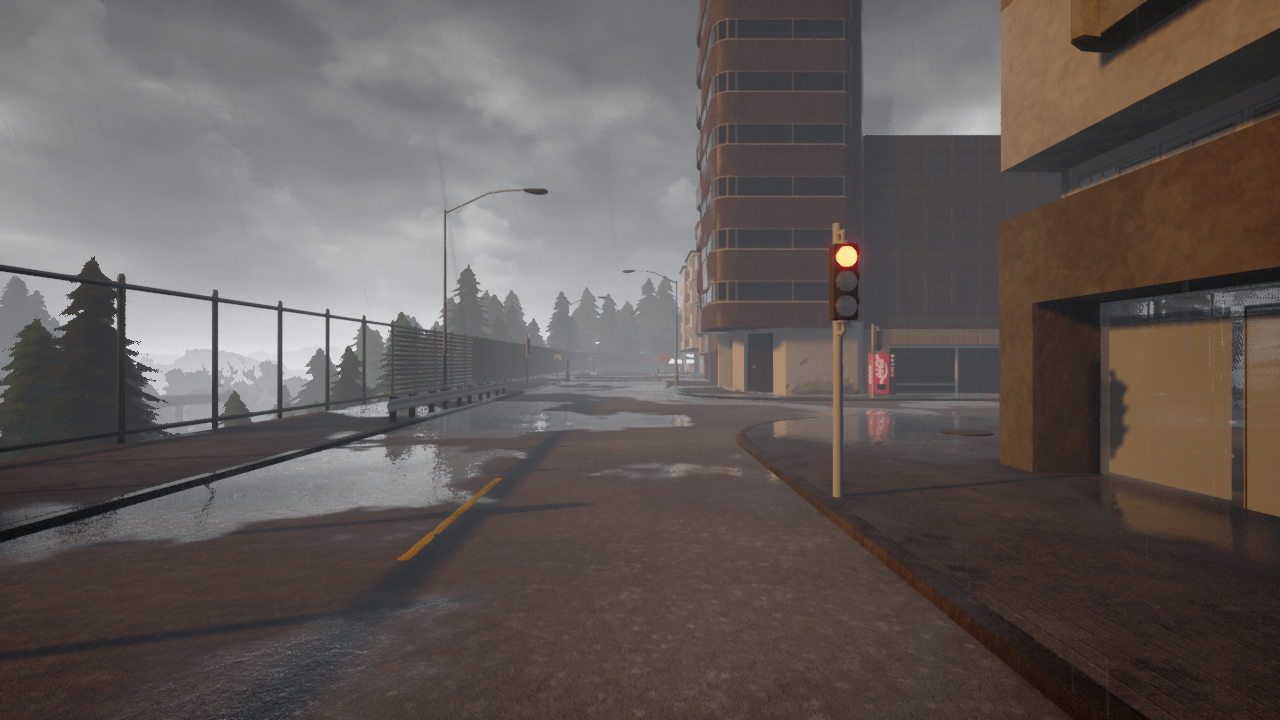red: (828, 242, 860, 322)
